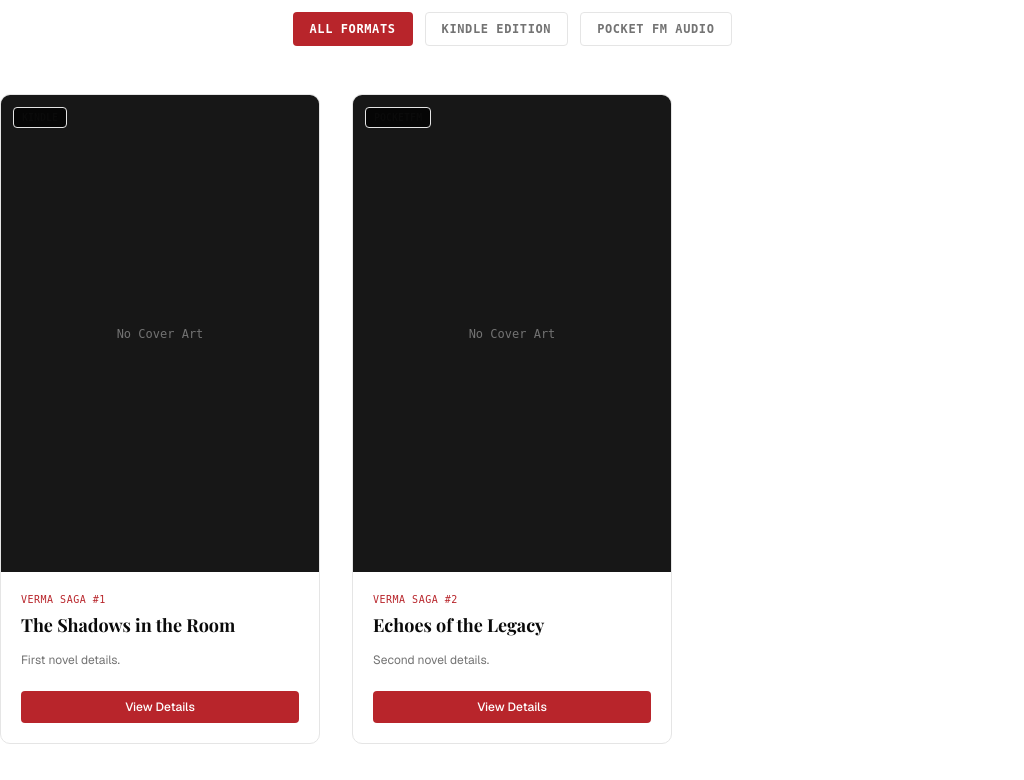
Test: BookListContainer Component › filters books by format when filter buttons are clicked
Check: the link "The Shadows in the Room" is shown, box [21, 613, 235, 637]
Check: the link "Echoes of the Legacy" is shown, box [373, 613, 544, 637]
Note: Filter to Kindle
Click the button "Kindle Edition" at {"x": 496, "y": 29}, box [425, 12, 568, 46]
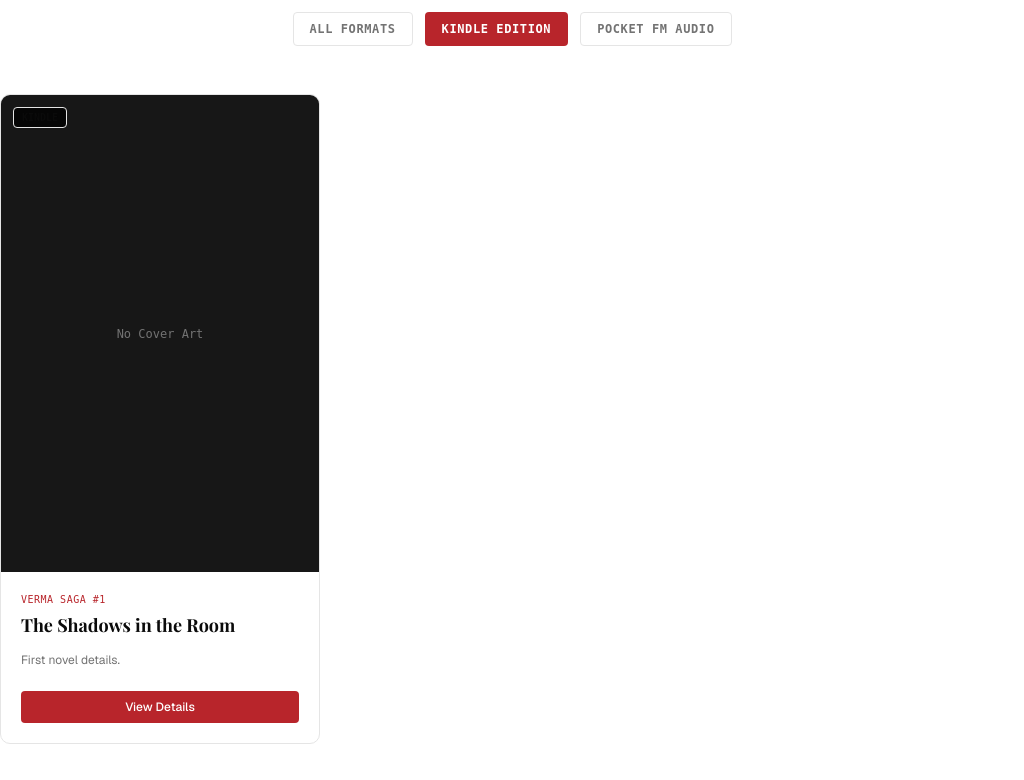
Check: the link "The Shadows in the Room" is shown, box [21, 613, 235, 637]
Check: the link "Echoes of the Legacy" is gone
Note: Filter to Pocket FM
Click the button "Pocket FM Audio" at {"x": 656, "y": 29}, box [580, 12, 732, 46]
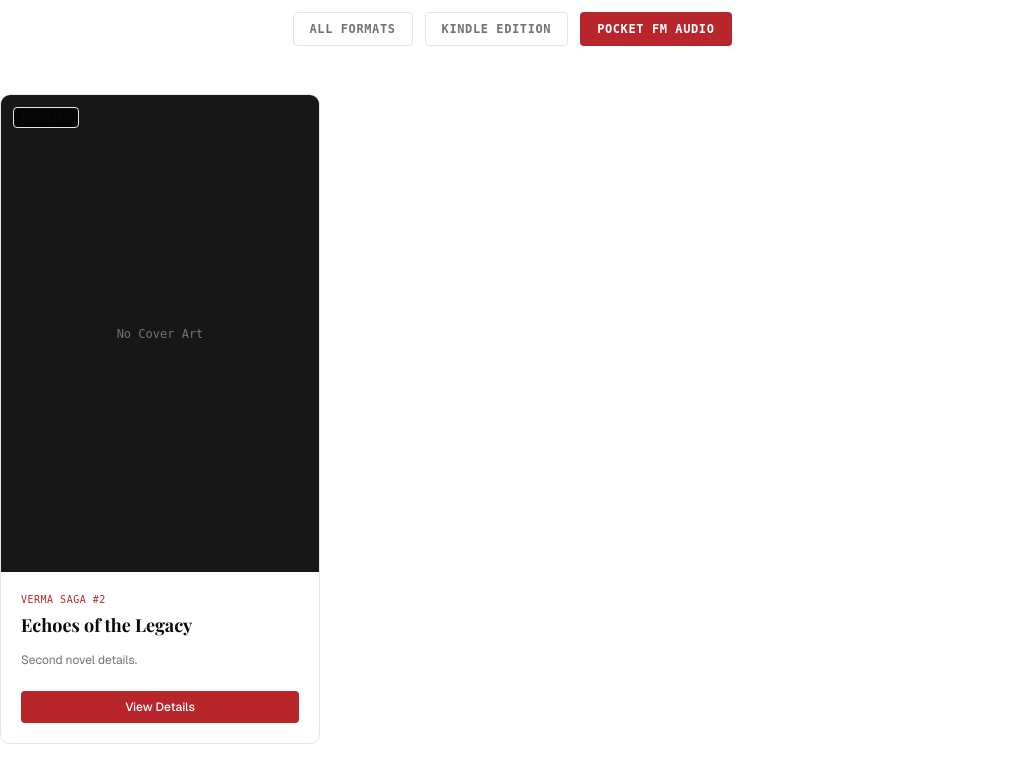
Check: the link "The Shadows in the Room" is gone
Check: the link "Echoes of the Legacy" is shown, box [21, 613, 192, 637]
